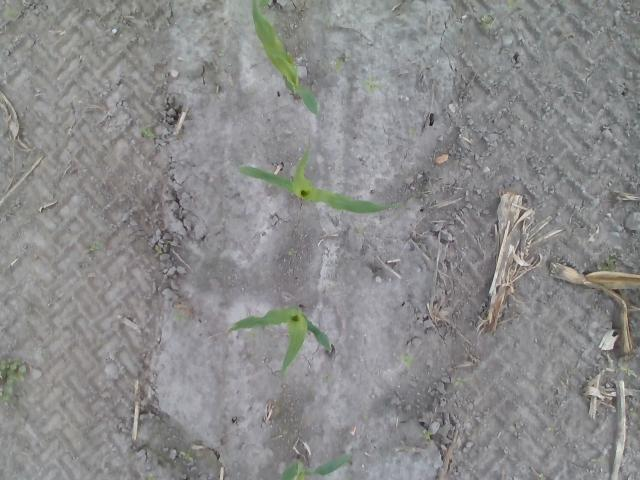Maize: (238, 137, 402, 215), (251, 0, 321, 118), (226, 304, 332, 381), (278, 455, 352, 480)
Weeds: (0, 357, 27, 406), (362, 75, 384, 93), (596, 256, 616, 272), (476, 13, 493, 31), (399, 354, 414, 368), (140, 125, 155, 138), (4, 4, 17, 18), (172, 310, 186, 322), (504, 0, 520, 10), (620, 365, 634, 376), (454, 376, 468, 387), (334, 59, 344, 74), (417, 429, 432, 439), (180, 450, 193, 460), (258, 0, 272, 8), (140, 473, 156, 480), (408, 126, 418, 137), (90, 241, 101, 251), (322, 373, 333, 383), (628, 407, 638, 417), (153, 245, 163, 253), (288, 248, 298, 255), (243, 87, 254, 93), (538, 473, 546, 480), (248, 331, 256, 338), (548, 424, 557, 430)
